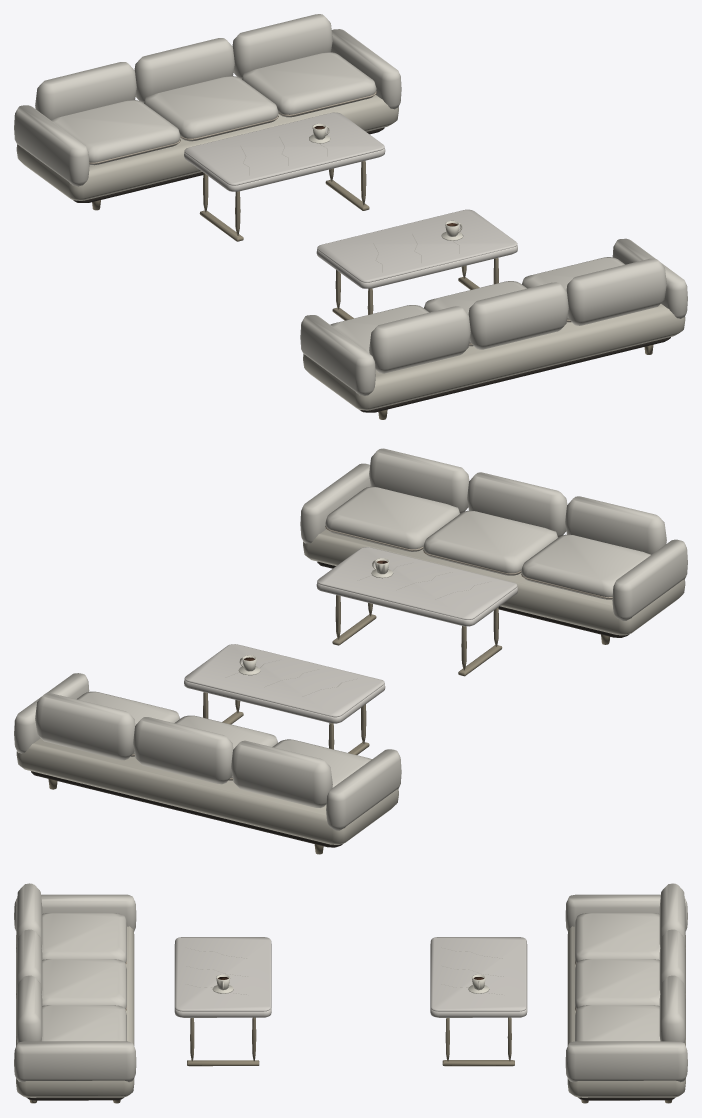
The model's file is lounge.glb.
The picture shows the model from 3 angles, top to bottom: view 1: azimuth 30°, elevation 25°; view 2: azimuth 150°, elevation 25°; view 3: azimuth 270°, elevation 25°; orthographic projection. The views are drawn at different scales.
Parts seen in each view (by area): view 1: Surface; view 2: Surface; view 3: Surface.
Boxes of the visible parts, x1,y1,x2,y2 form: Surface: [14, 14, 687, 419]; Surface: [14, 448, 687, 854]; Surface: [14, 883, 687, 1103].
Bounding box in the file's own units: 2.74 × 0.74 × 5.01.
